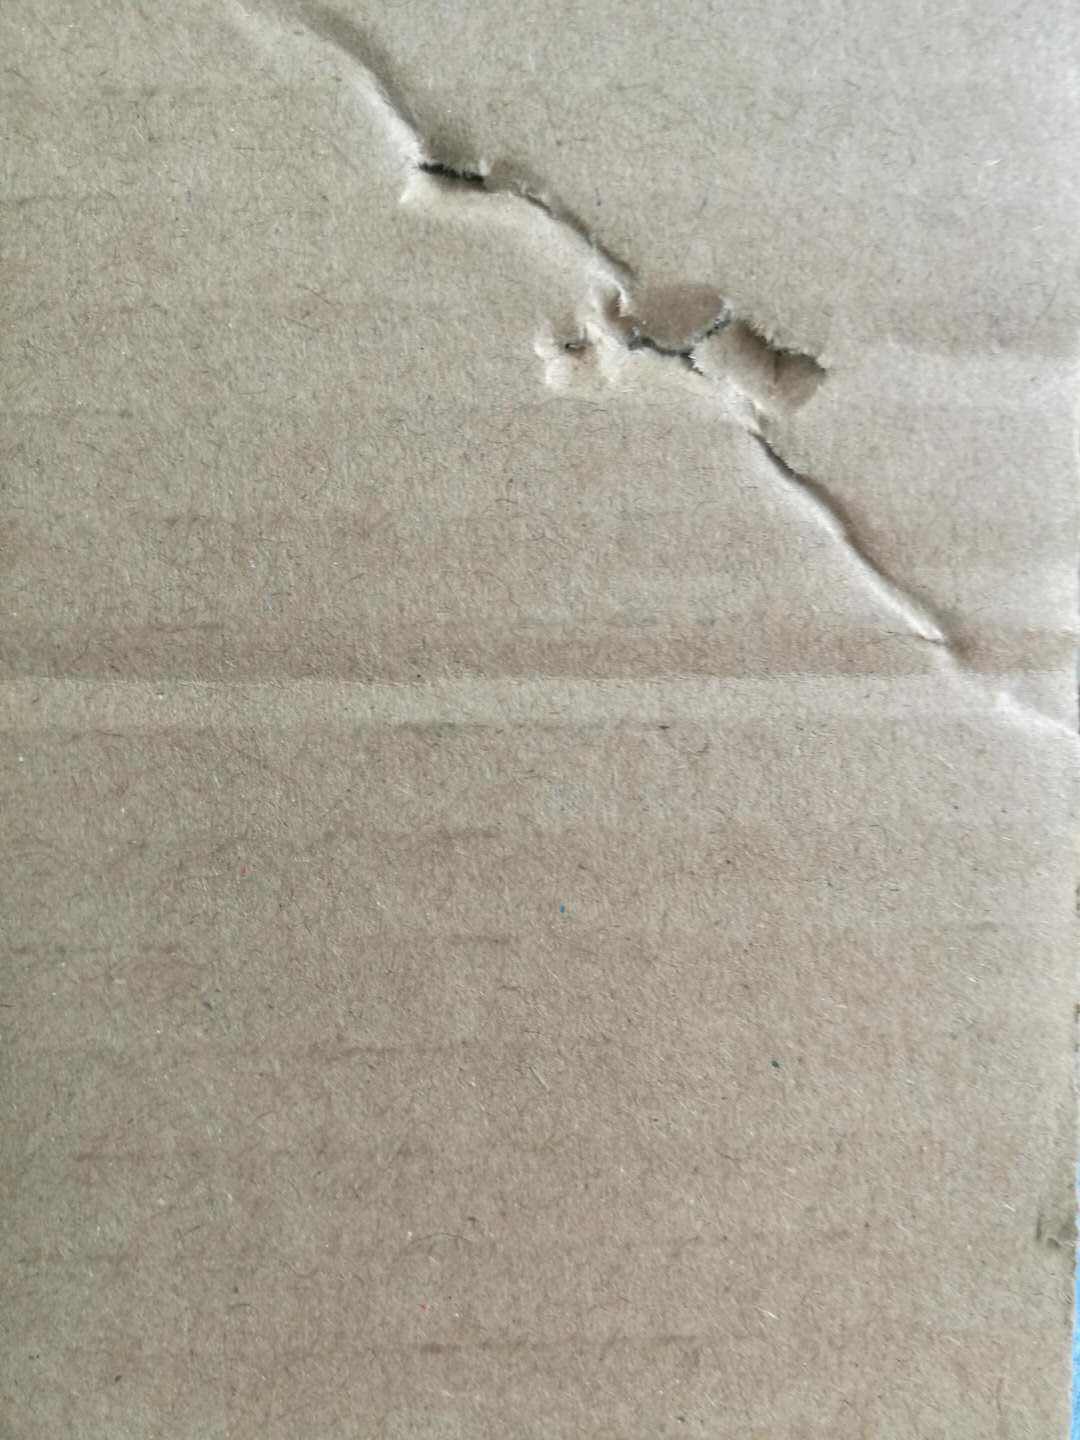defect: (171, 5, 1080, 662), (2, 618, 1080, 763)
